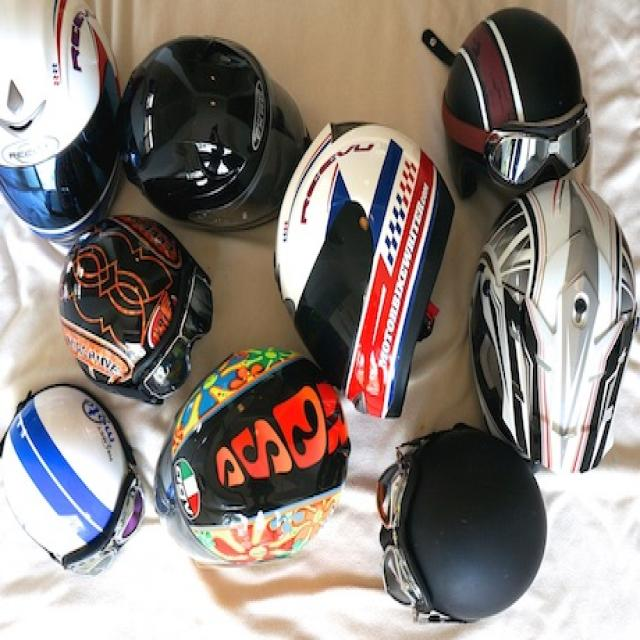helmet: (270, 108, 458, 424), (463, 165, 640, 482), (152, 343, 355, 576), (109, 25, 316, 241), (370, 415, 553, 634), (52, 210, 219, 412), (437, 1, 595, 206), (0, 0, 129, 248), (1, 374, 148, 587)
